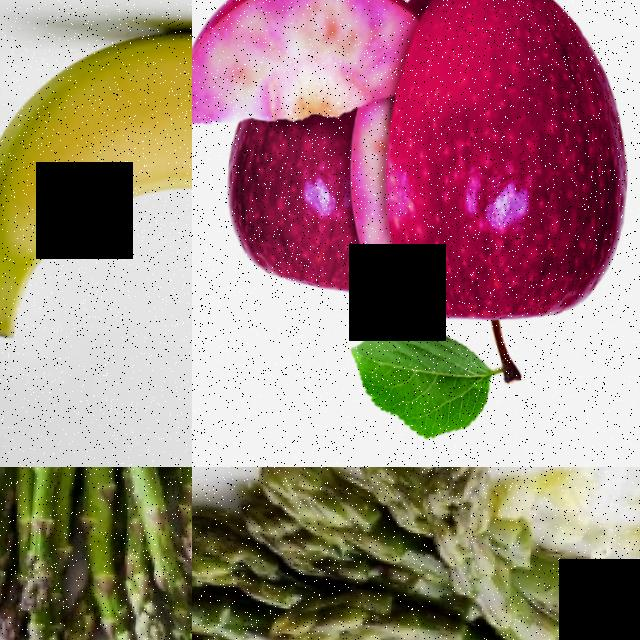apple: (350, 0, 640, 339), (192, 0, 428, 144), (217, 109, 362, 327)
asparagus: (434, 467, 553, 633), (99, 467, 192, 640), (0, 467, 67, 633), (280, 579, 439, 640), (268, 467, 388, 547), (192, 525, 302, 598), (192, 587, 277, 640)
banana: (0, 0, 192, 403)
